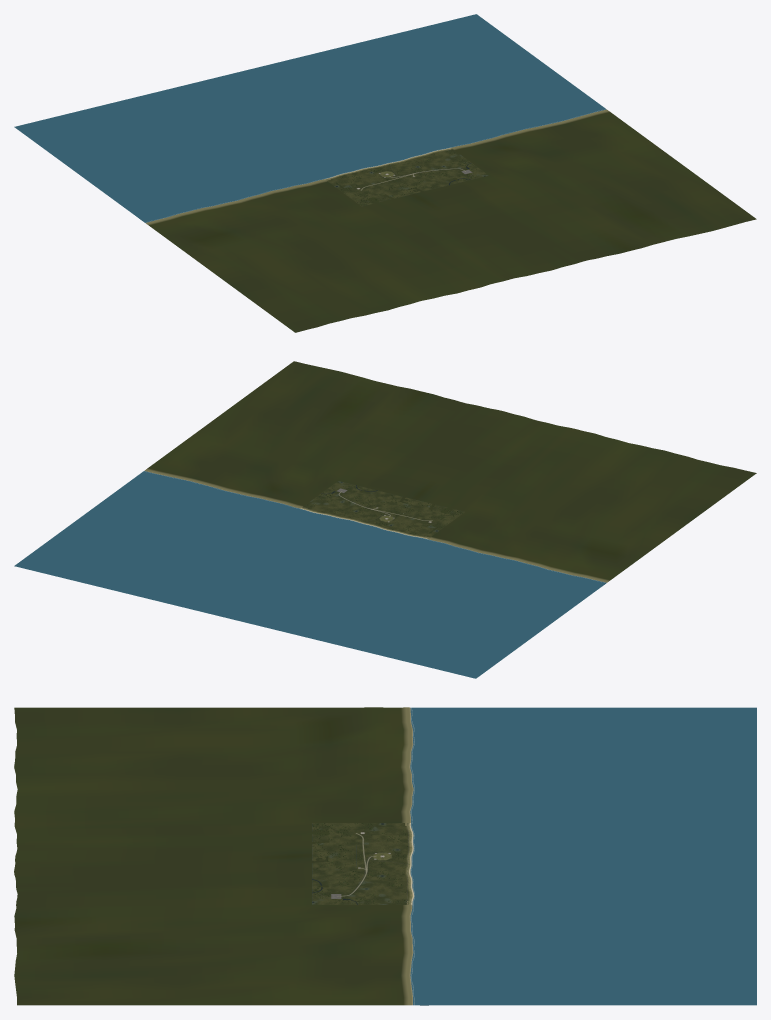
The model's file is lc39a-terrain.glb.
The picture shows the model from 3 angles, top to bottom: view 1: azimuth 30°, elevation 25°; view 2: azimuth 150°, elevation 25°; view 3: azimuth 270°, elevation 25°; orthographic projection. The views are drawn at different scales.
Parts seen in each view (by area): view 1: terrain-outer, sea, terrain-far, terrain-near, veg-hammocks; view 2: terrain-outer, sea, terrain-far, terrain-near, veg-hammocks; view 3: terrain-outer, sea, terrain-far, terrain-near, veg-hammocks.
Part boxes in pixels (box(x1,y1,x2,y2)): terrain-outer: box(145, 109, 756, 332); sea: box(14, 14, 606, 222); terrain-far: box(324, 147, 488, 206); terrain-near: box(358, 162, 414, 185); veg-hammocks: box(339, 150, 486, 205); terrain-outer: box(144, 361, 756, 582); sea: box(14, 471, 606, 678); terrain-far: box(300, 481, 464, 539); terrain-near: box(359, 507, 413, 531); veg-hammocks: box(305, 482, 462, 534); terrain-outer: box(14, 707, 428, 1005); sea: box(410, 707, 756, 1005); terrain-far: box(312, 823, 414, 904); terrain-near: box(356, 845, 413, 867); veg-hammocks: box(312, 823, 408, 904).
Size of the model in its own units: 32000 by 27.25 by 33732.
7 materials, 5 textured.
